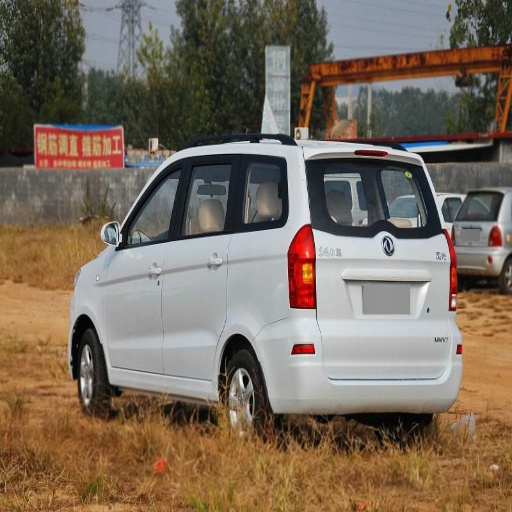back_bumper: (262, 309, 462, 411)
back_glass: (316, 159, 431, 234)
back_left_door: (164, 157, 246, 376)
trunk: (293, 233, 456, 373)
